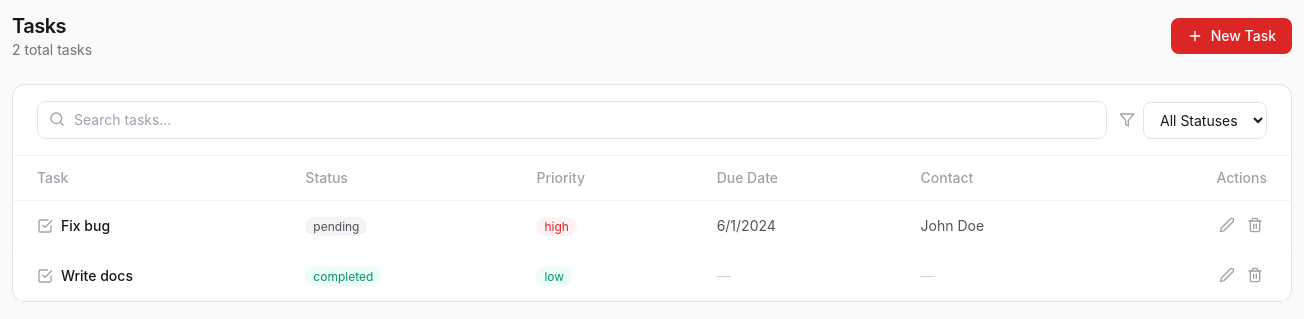
search filters tasks
The image size is (1304, 319).
Expected: the text "Fix bug" is shown, [61, 216, 110, 236]
In the field with placeholder "Search tasks…": (572,120) [37, 101, 1107, 139], type "docs"
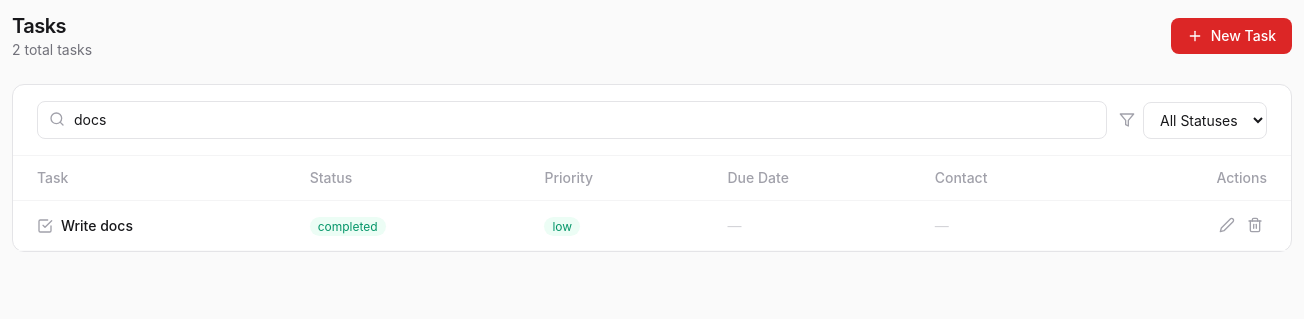
Expected: the text "Write docs" is shown, [61, 216, 133, 236]
Expected: the text "Fix bug" is gone
